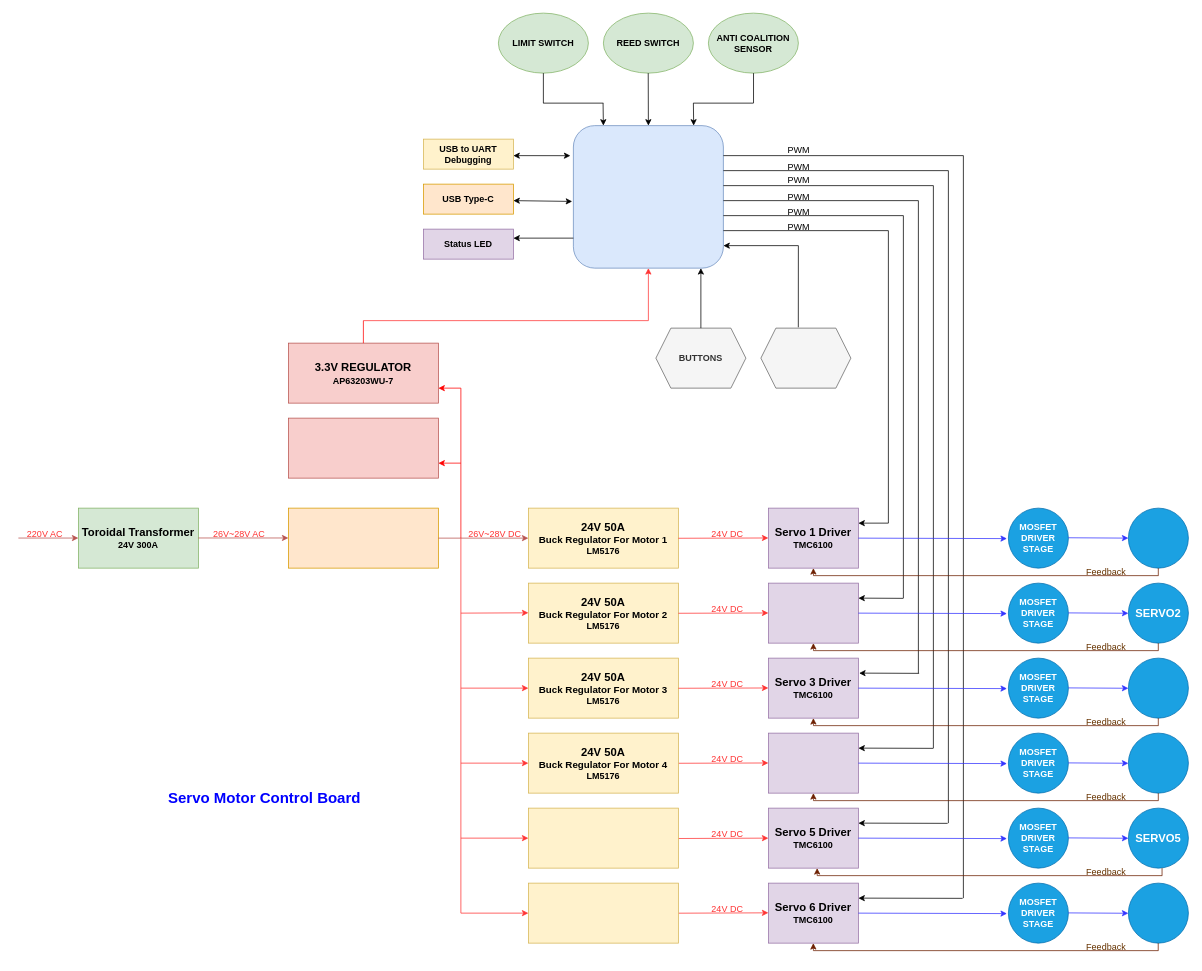
Some shapes in this 1202 by 971 pixel diagram are drawn without their labels. Here are the shapes that lost their labels. From the top down, the box of each, then its label:
(573, 125, 723, 268): CONTROLLER ESP32-S3-WROOM-1-N8R2
(760, 327, 851, 388): CONNECTORS
(288, 417, 438, 478): 5V REGULATOR AP63205WU-7
(288, 507, 438, 568): BRIDGE RECTIFIER MD250S16M5-BP
(1128, 507, 1188, 568): SERVO1
(768, 582, 858, 643): Servo 2 Driver TMC6100
(1128, 657, 1188, 718): SERVO3
(768, 732, 858, 793): Servo 4 Driver TMC6100
(1128, 732, 1188, 793): SERVO4
(528, 807, 678, 868): 24V 50A Buck Regulator For Motor 5 LM5176
(528, 882, 678, 943): 24V 50A Buck Regulator For Motor 6 LM5176
(1128, 882, 1188, 943): SERVO6
